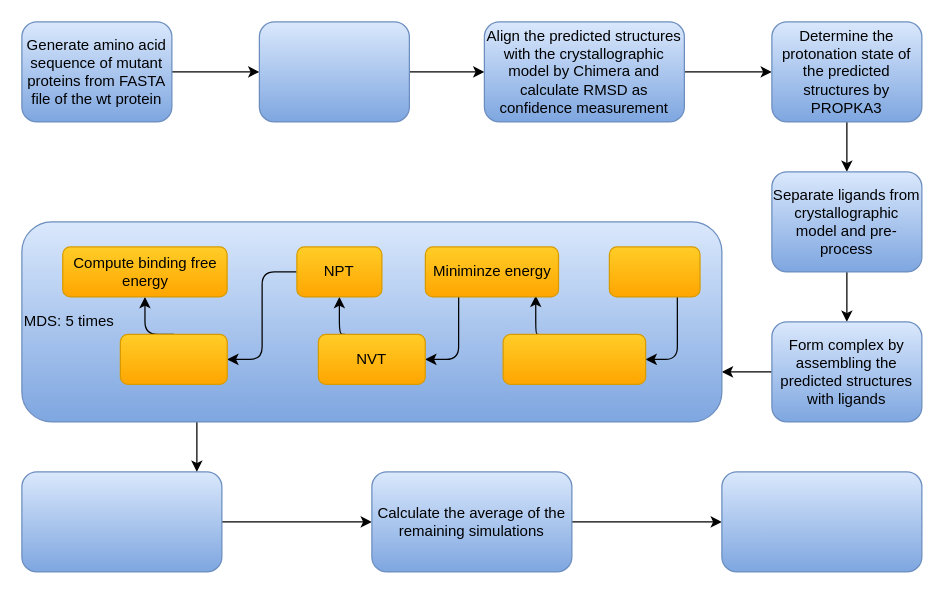
Some shapes in this 944 by 594 pixel diagram are drawn without their labels. The centre of each missing label's shape, as x and y in pixels:
"Compare the binding free energy of wt and mutant proteins to conclude" belongs at [821,521].
"Filter out the outlier simulations by checking the relative variance" belongs at [121,521].
"MD" belongs at [173,358].
"Neutralize" belongs at [574,358].
"Predict structure of the proteins (wt and mutant) by AlphaFold2" belongs at [333,71].
"Solvate" belongs at [654,271].
